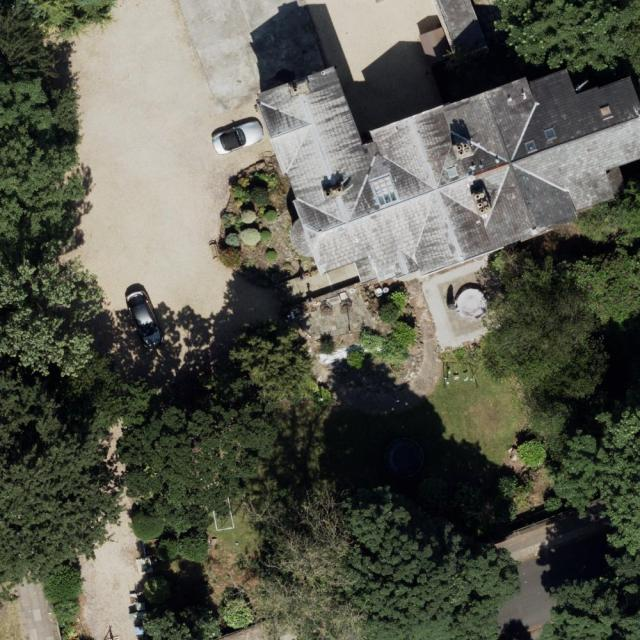roof: (251, 66, 640, 287)
skylight: (365, 170, 401, 209), (523, 138, 541, 156), (543, 125, 558, 143)
